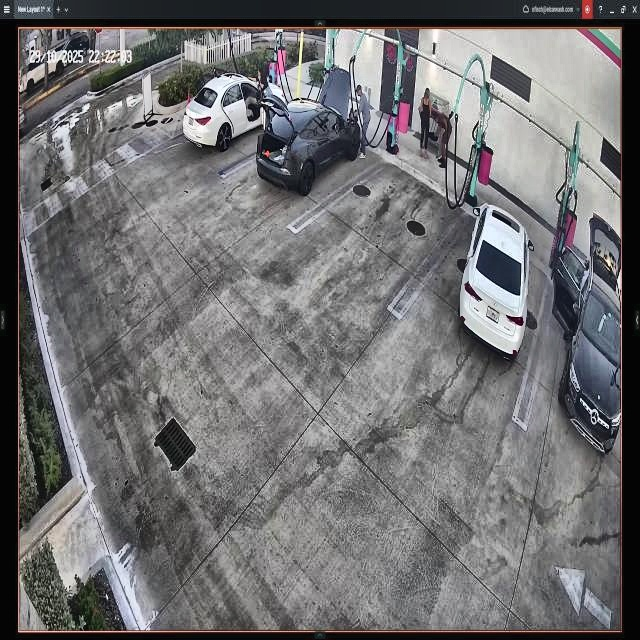Car: (260, 66, 360, 190), (456, 204, 534, 362), (184, 74, 286, 150)
